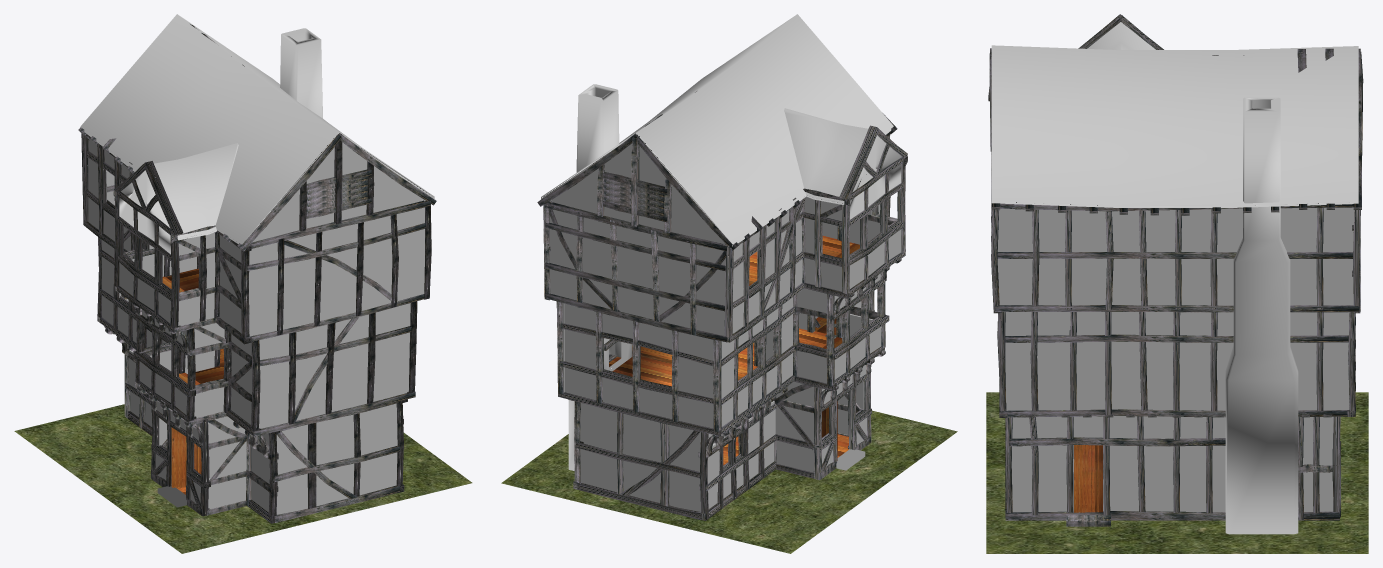
File: House3story.obj
The picture shows the model from 3 angles, left to right: view 1: azimuth 30°, elevation 25°; view 2: azimuth 150°, elevation 25°; view 3: azimuth 270°, elevation 25°; orthographic projection. The views are drawn at different scales.
Visible parts, largest first — view 1: Box03, Plane15, Box3738, Box3739, Box3839, Box04, Box3990, Box3868, Box3836, Box3673, Box3740, Box3665 (+43 smaller); view 2: Box03, Plane15, Box3734, Box3847, Box04, Box3987, Box3868, Box3731, Box3767, Box3835, Box3816, Box3673 (+54 smaller); view 3: Box03, Box3868, Box3936, Box3619, Plane15, Box3935, Box3937, Box3938, Box3743, Box3939, Box3801, Box3797 (+36 smaller).
Part boxes in pixels (box(x1,y1,x2,y2)): Box03: box(80, 14, 434, 244); Plane15: box(14, 404, 472, 553); Box3738: box(249, 207, 424, 336); Box3739: box(259, 303, 410, 428); Box3839: box(277, 403, 397, 514); Box04: box(154, 143, 238, 240); Box3990: box(252, 142, 423, 242); Box3868: box(280, 28, 322, 118); Box3836: box(208, 416, 246, 509); Box3673: box(119, 170, 170, 254); Box3740: box(219, 234, 241, 333); Box3665: box(249, 201, 430, 248); Box03: box(541, 14, 893, 246); Plane15: box(501, 410, 957, 553); Box3734: box(549, 209, 725, 335); Box3847: box(580, 403, 700, 511); Box04: box(784, 108, 868, 205); Box3987: box(551, 143, 725, 243); Box3868: box(568, 84, 632, 470); Box3731: box(564, 367, 713, 428); Box3767: box(564, 303, 713, 360); Box3835: box(775, 381, 814, 472); Box3816: box(609, 328, 826, 386); Box3673: box(850, 135, 901, 219); Box03: box(991, 45, 1358, 207); Box3868: box(1225, 97, 1298, 534); Box3936: box(997, 208, 1242, 305); Box3619: box(1005, 312, 1233, 410); Plane15: box(986, 392, 1368, 553); Box3935: box(1011, 416, 1225, 512); Box3937: box(1280, 207, 1354, 305); Box3938: box(1290, 312, 1349, 410); Box3743: box(995, 305, 1359, 312); Box3939: box(1303, 416, 1333, 511); Box3801: box(1005, 509, 1339, 520); Box3797: box(1005, 334, 1348, 342).
Size of the model in its own units: 76 by 95.54 by 76.
